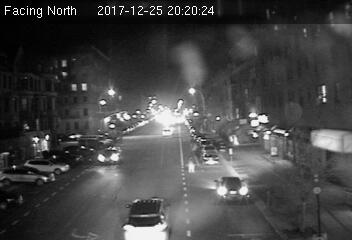car: (123, 192, 173, 240), (213, 177, 251, 203), (97, 146, 123, 162), (202, 151, 221, 166)
